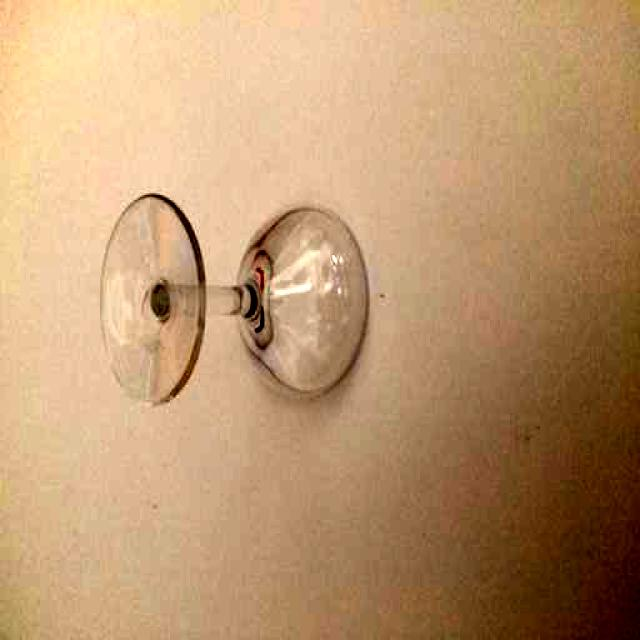Glass: (101, 193, 369, 404)
